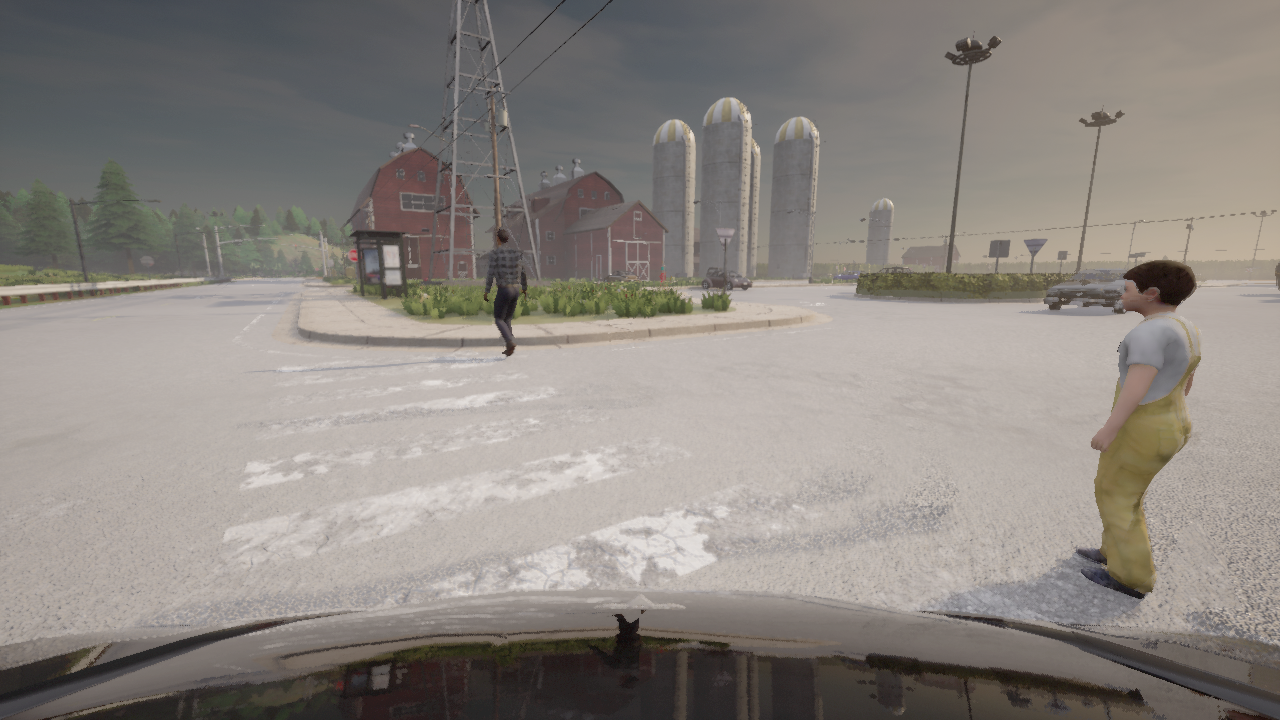cyclist: (0, 588, 1279, 719), (1042, 267, 1129, 314), (701, 270, 751, 289), (603, 270, 637, 281), (833, 270, 865, 279), (877, 267, 914, 273), (706, 267, 723, 277), (1276, 260, 1279, 288)
pedestrian: (1077, 259, 1204, 599), (483, 228, 527, 357), (658, 261, 666, 289)
